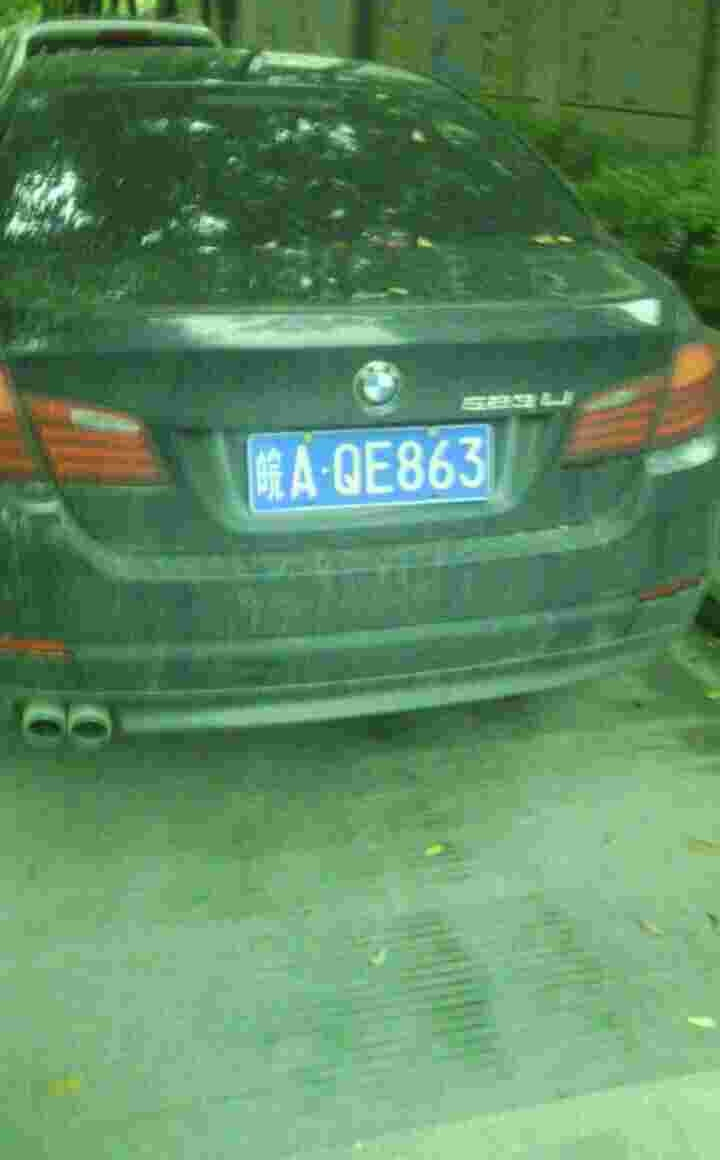plate: (252, 418, 500, 517)
